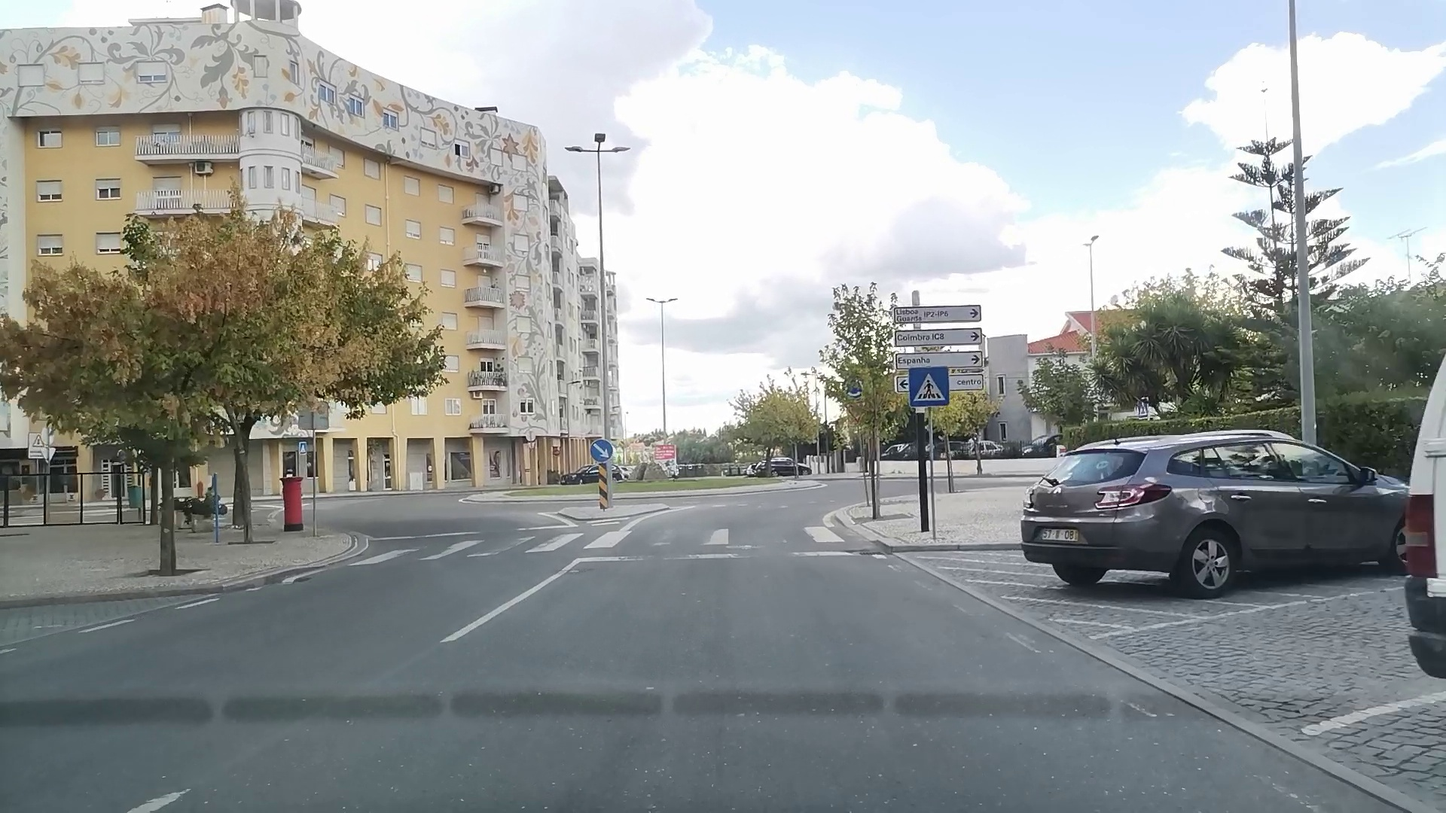Stairs: (336, 524, 850, 567)
